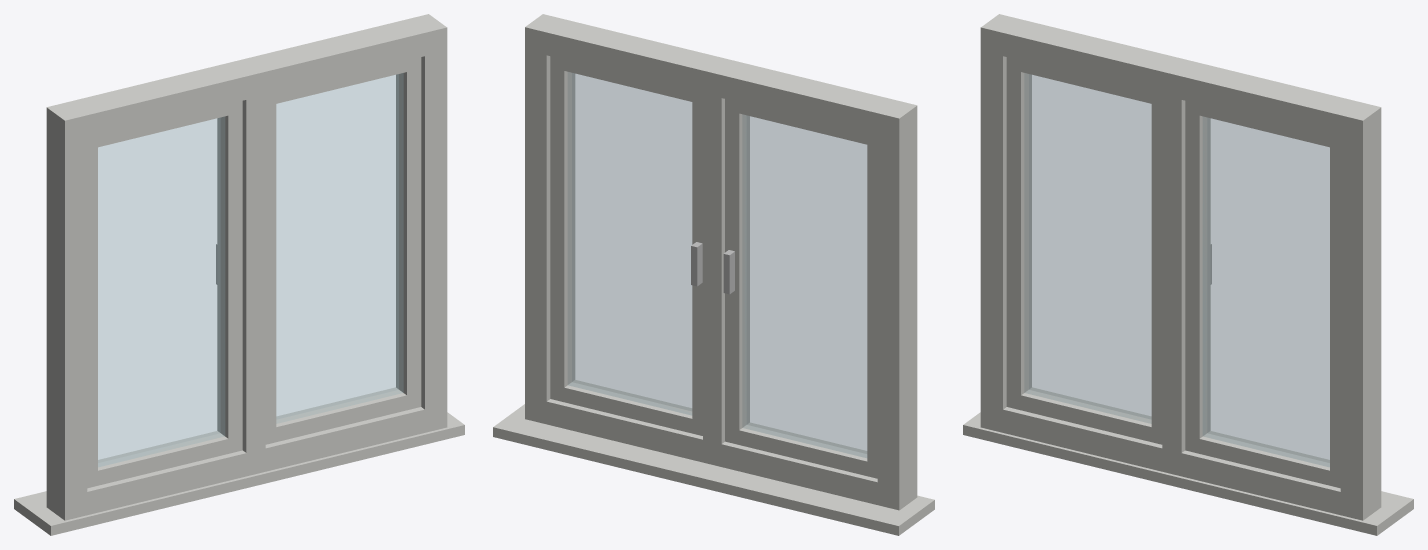
File: opening.window.medium.glb
3 views of the same model, side by side, from view 1: azimuth 30°, elevation 25°; view 2: azimuth 150°, elevation 25°; view 3: azimuth 330°, elevation 25° (orthographic). The views are drawn at different scales.
Parts seen in each view (by area): view 1: frame__paint_white, glazing__glass; view 2: frame__paint_white, glazing__glass, ironmongery__steel_stainless; view 3: frame__paint_white, glazing__glass.
Boxes of the visible parts, x1,y1,x2,y2 form: frame__paint_white: (14,14,464,535); glazing__glass: (98,73,403,466); frame__paint_white: (493,14,934,535); glazing__glass: (568,72,866,457); ironmongery__steel_stainless: (691,242,734,294); frame__paint_white: (963,14,1413,535); glazing__glass: (1024,73,1329,466).
Bounding box in the file's own units: 1.3 × 1.23 × 0.2.
